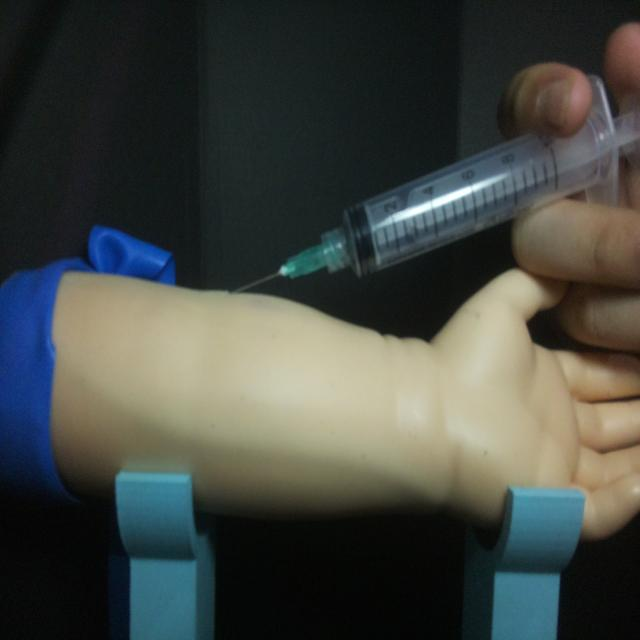21deg: (226, 70, 634, 298)
